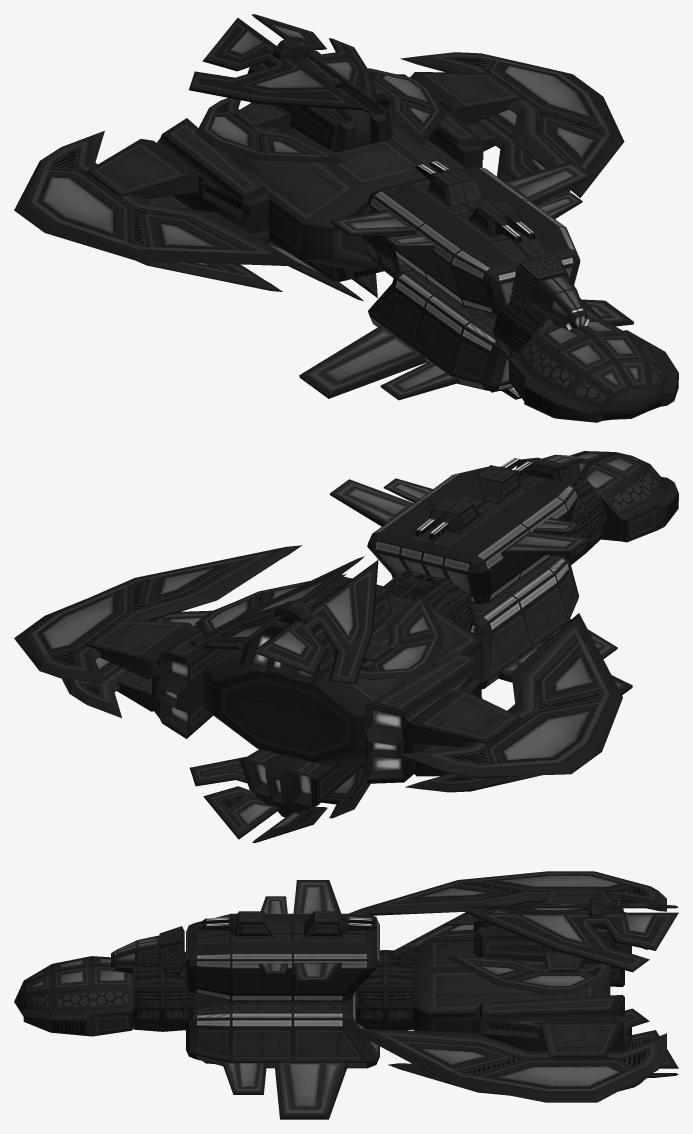
File: astraTalonFleet_CruiserB.FBX
3 views of the same model, one above another, from view 1: azimuth 30°, elevation 25°; view 2: azimuth 150°, elevation 25°; view 3: azimuth 270°, elevation 25° (orthographic). The views are drawn at different scales.
Visible parts, largest first — view 1: CruiserBModel; view 2: CruiserBModel; view 3: CruiserBModel.
Part boxes in pixels (x1,y1,x2,y2): CruiserBModel: (14, 14, 678, 422); CruiserBModel: (14, 451, 678, 842); CruiserBModel: (14, 871, 678, 1119).
Bounding box in the file's own units: 941 × 1148 × 347.
